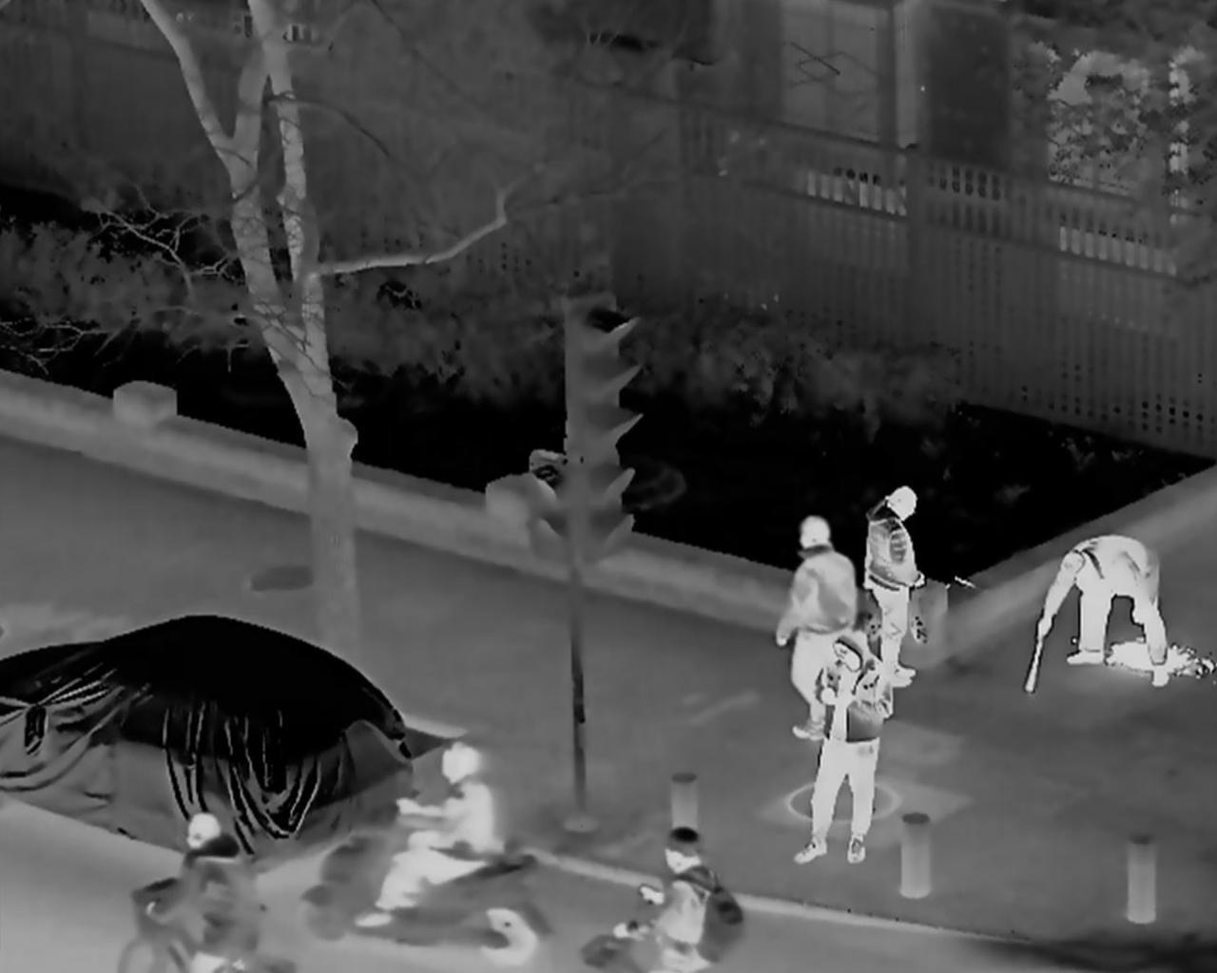person: (356, 741, 493, 931), (1035, 534, 1168, 694), (796, 633, 884, 867), (140, 812, 256, 973), (777, 515, 855, 739), (613, 828, 721, 973), (861, 485, 929, 690)
